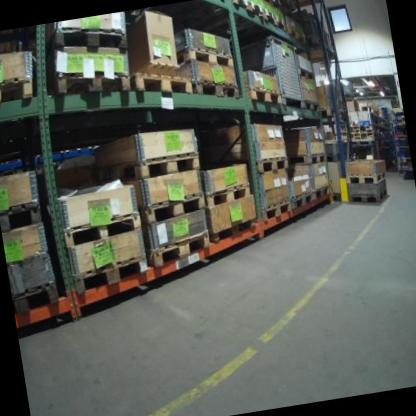pallet: (96, 149, 202, 187), (47, 20, 131, 61), (72, 254, 151, 297), (49, 61, 131, 102), (62, 209, 144, 249), (145, 229, 215, 270), (129, 62, 194, 102), (138, 190, 207, 226), (174, 40, 234, 75), (12, 279, 63, 315), (191, 73, 240, 104), (203, 180, 253, 210), (0, 200, 43, 234), (209, 217, 258, 243), (244, 81, 284, 110), (0, 76, 36, 104), (348, 187, 389, 209), (344, 168, 387, 188), (231, 0, 265, 24), (260, 197, 293, 221), (289, 148, 328, 168), (255, 153, 291, 174), (263, 10, 286, 34), (290, 189, 315, 210), (286, 24, 305, 45), (312, 182, 331, 202), (297, 64, 315, 82), (301, 97, 321, 113)
stillage: (228, 27, 307, 123)
